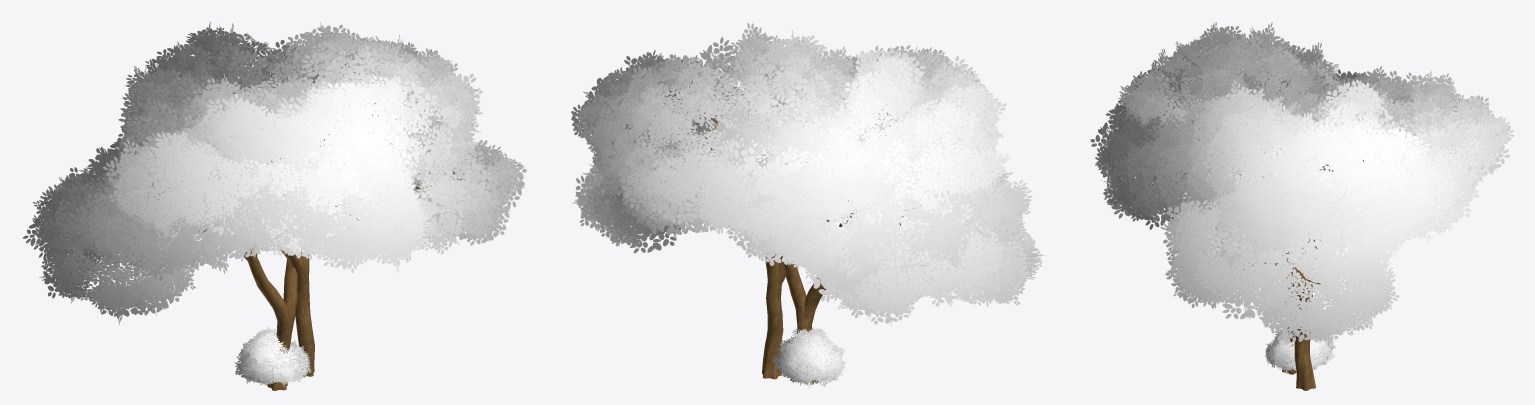
Rendered from nature-kit.glb.
3 renders of one model, left to right at view 1: azimuth 30°, elevation 25°; view 2: azimuth 150°, elevation 25°; view 3: azimuth 270°, elevation 25°, orthographic. The views are drawn at different scales.
Visible parts, largest first — view 1: F1_Tree2_leaves, F1_Tree1_leaves, F1_Tree1_trunk, F1_BushLow_mesh, F1_Tree2_trunk, F1_BushMid_mesh; view 2: F1_Tree2_leaves, F1_Tree1_leaves, F1_Tree2_trunk, F1_BushLow_mesh, F1_BushMid_mesh, F1_Tree1_trunk; view 3: F1_Tree2_leaves, F1_Tree1_leaves, F1_BushLow_mesh, F1_Tree2_trunk.
Part boxes in pixels (x1,y1,x2,y2): F1_Tree2_leaves: (52,22,482,285); F1_Tree1_leaves: (23,60,526,324); F1_Tree1_trunk: (111,182,434,390); F1_BushLow_mesh: (234,341,311,386); F1_Tree2_trunk: (233,76,421,376); F1_BushMid_mesh: (240,327,296,383); F1_Tree2_leaves: (571,23,1032,300); F1_Tree1_leaves: (572,45,1045,324); F1_Tree2_trunk: (674,99,921,379); F1_BushLow_mesh: (772,336,846,386); F1_BushMid_mesh: (781,327,837,383); F1_Tree1_trunk: (781,119,983,382); F1_Tree2_leaves: (1090,33,1514,255); F1_Tree1_leaves: (1119,22,1478,344); F1_BushLow_mesh: (1265,329,1335,374); F1_Tree2_trunk: (1236,134,1415,390).
Size of the model in its own units: 11.71 by 7.98 by 10.07.
Materials: 3 (3 with a texture image).
